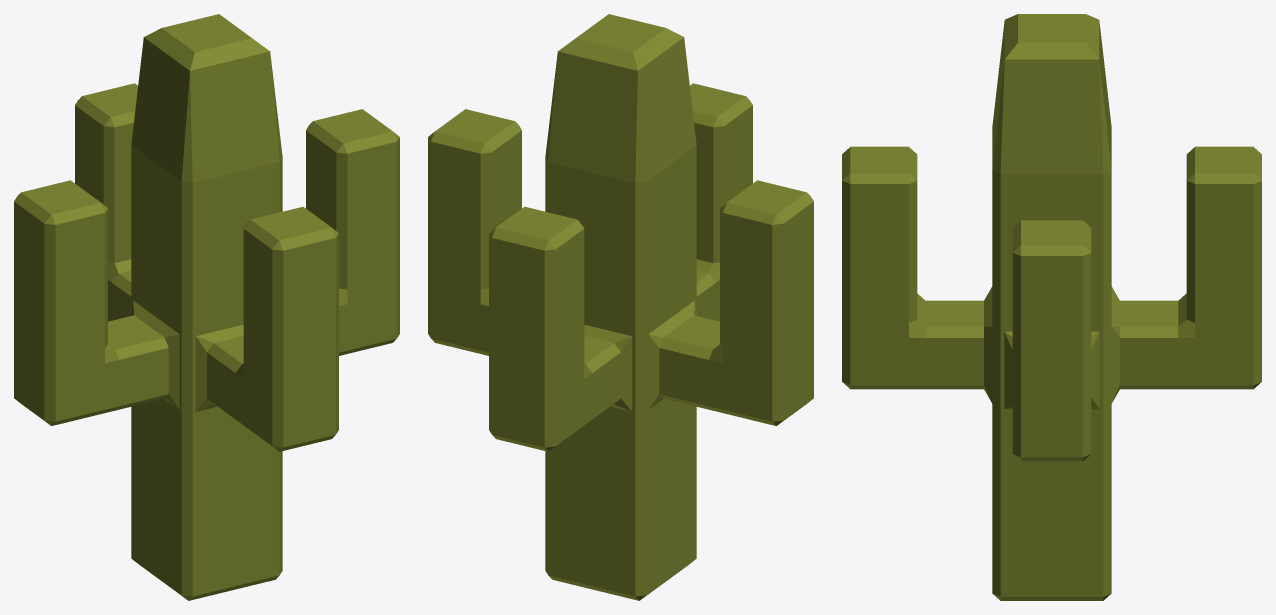
File: GrosCactus.fbx
3 renders of one model, left to right at view 1: azimuth 30°, elevation 25°; view 2: azimuth 150°, elevation 25°; view 3: azimuth 270°, elevation 25°, orthographic. The views are drawn at different scales.
Visible parts, largest first — view 1: GrosCactus; view 2: GrosCactus; view 3: GrosCactus.
Part boxes in pixels (left/top/right/bottom): GrosCactus: left=14, top=14, right=399, bottom=600; GrosCactus: left=428, top=14, right=813, bottom=600; GrosCactus: left=842, top=14, right=1261, bottom=600.
Bounding box in the file's own units: 131 × 131 × 190.
